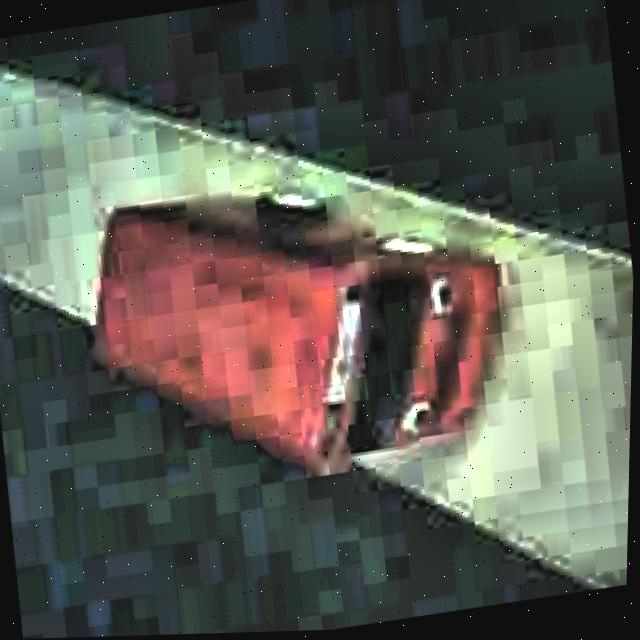bus: (71, 145, 528, 509)
